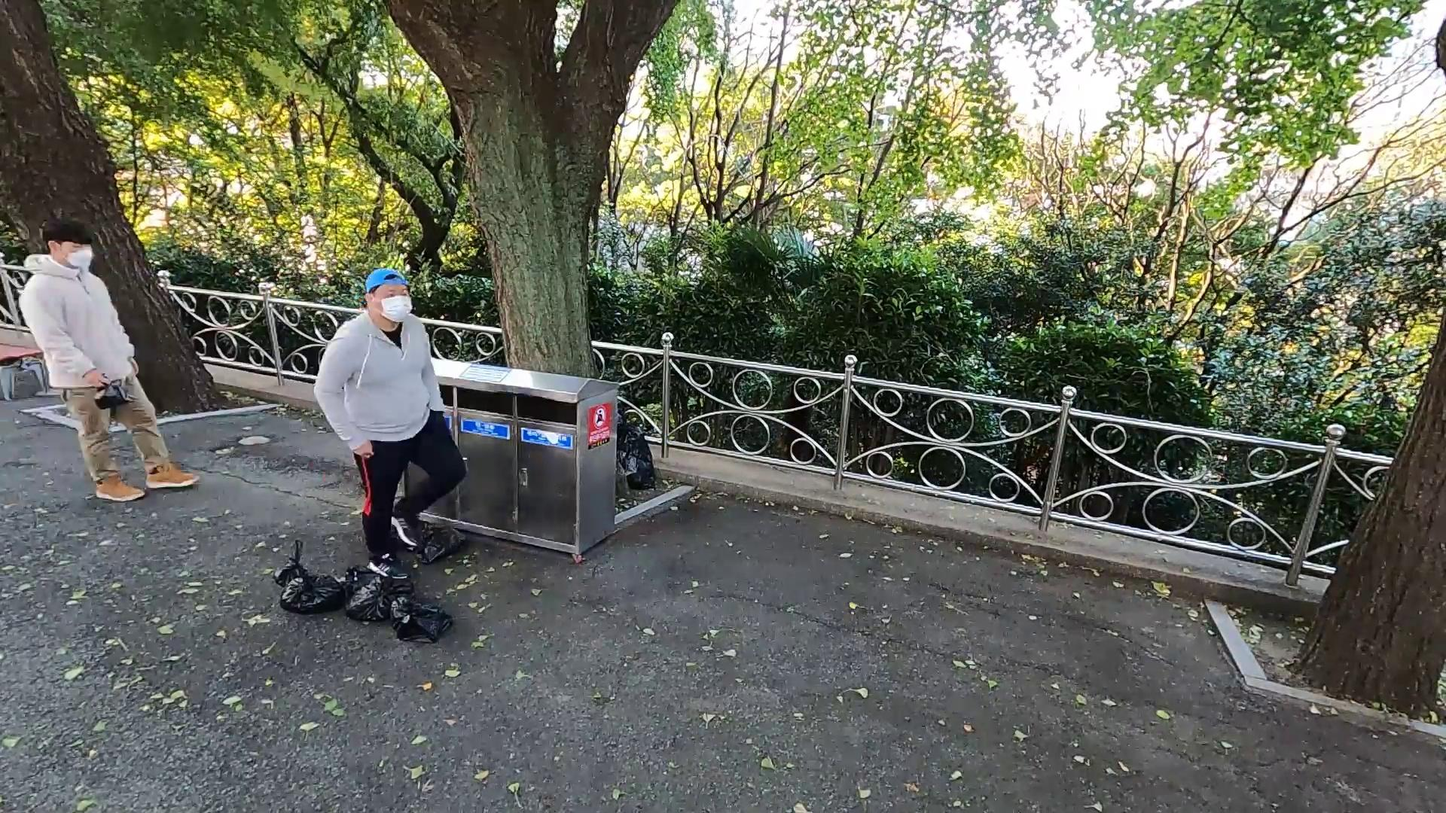person: (19, 219, 197, 508), (312, 266, 467, 576)
trash: (272, 545, 339, 615), (388, 583, 457, 645), (339, 562, 395, 624), (620, 410, 659, 498), (418, 523, 471, 567), (84, 380, 131, 415)
